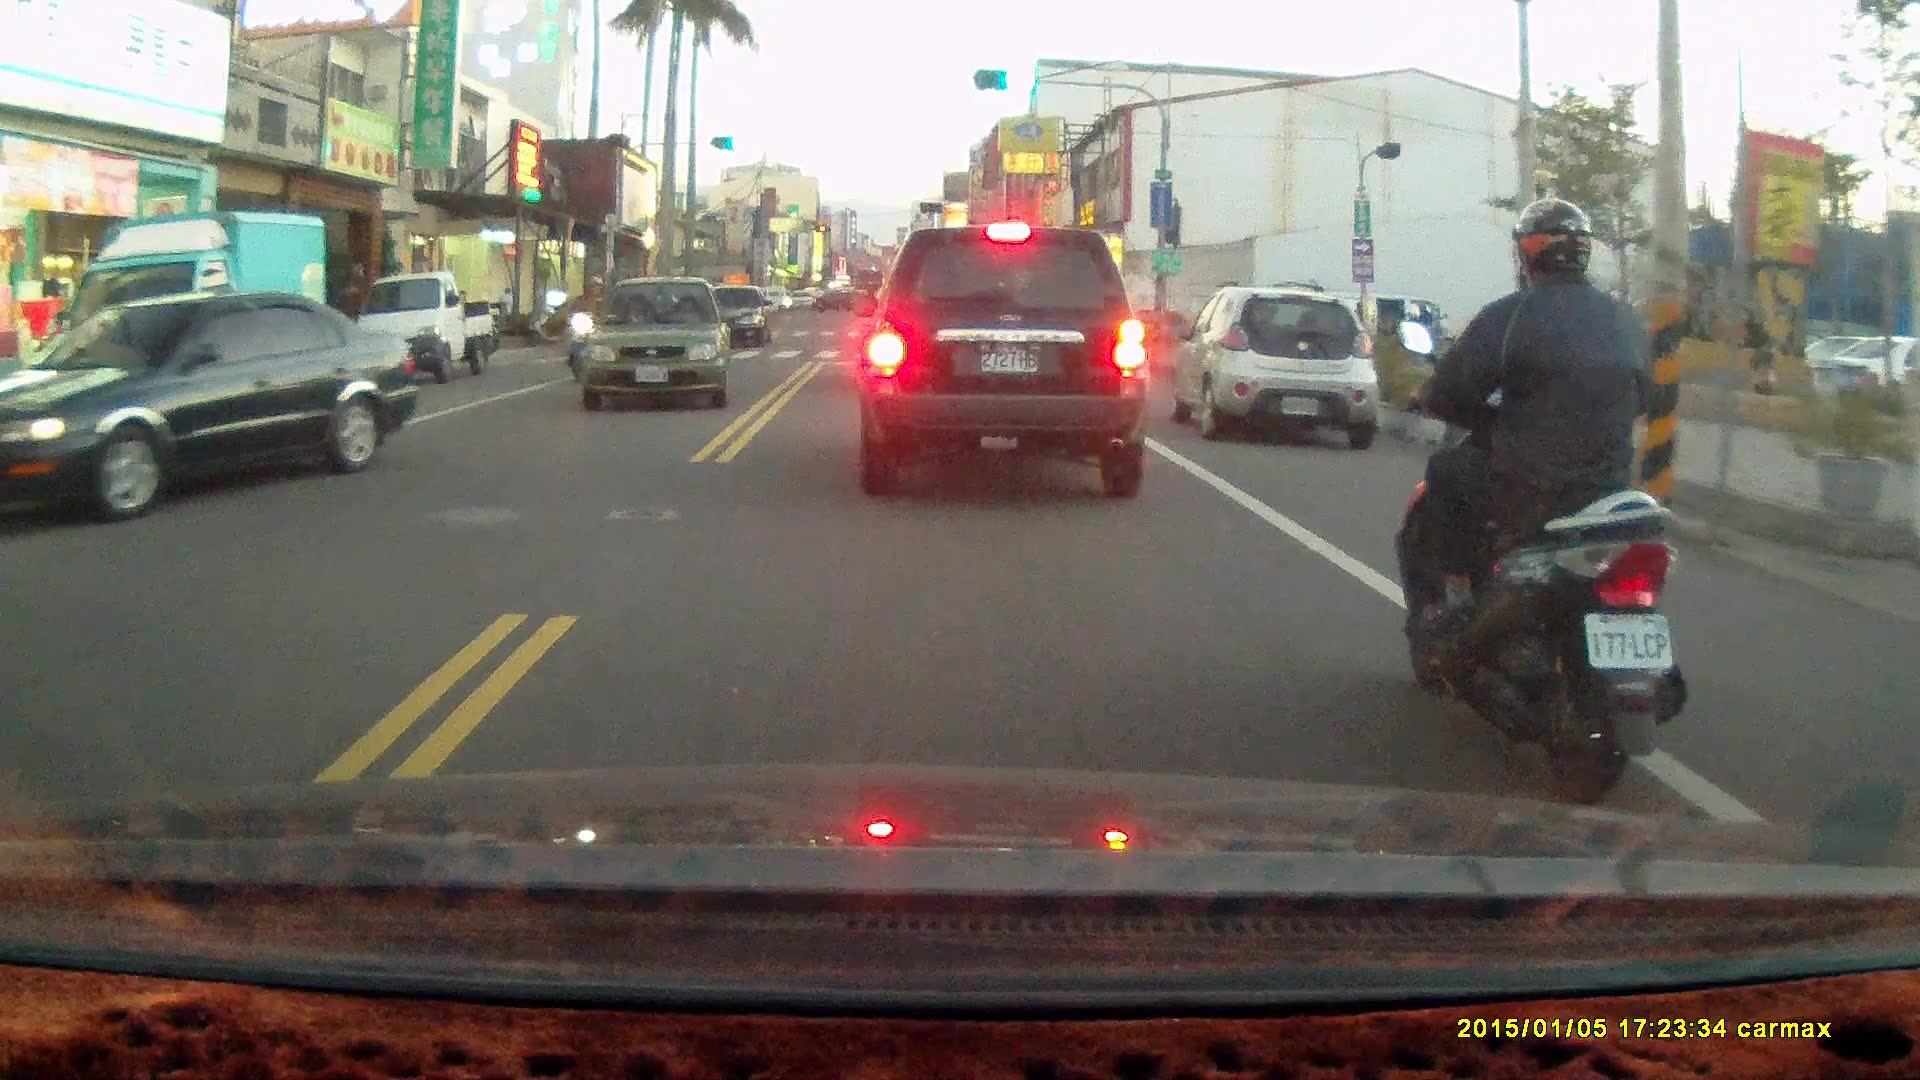rider: (1393, 196, 1691, 805), (558, 278, 608, 372)
vehicle: (1, 293, 424, 523), (855, 223, 1149, 500), (69, 212, 327, 445), (1180, 286, 1380, 447), (573, 273, 731, 415), (348, 268, 496, 383)
